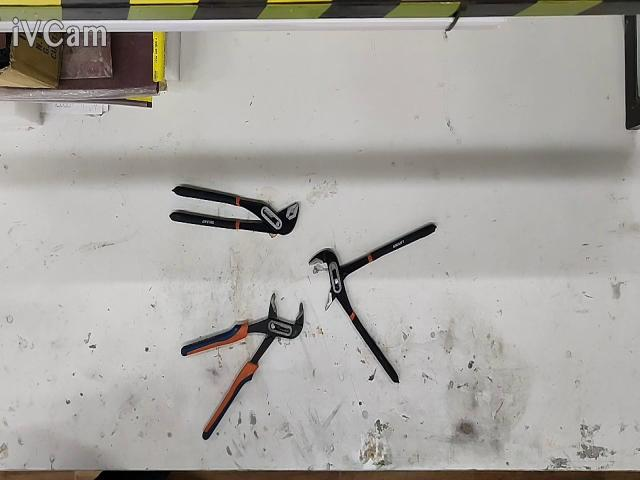Gas wrench: (309, 223, 436, 382), (181, 293, 304, 438), (170, 183, 298, 235)
